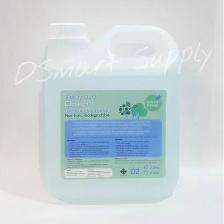cleaning_solution: (35, 19, 183, 205)
